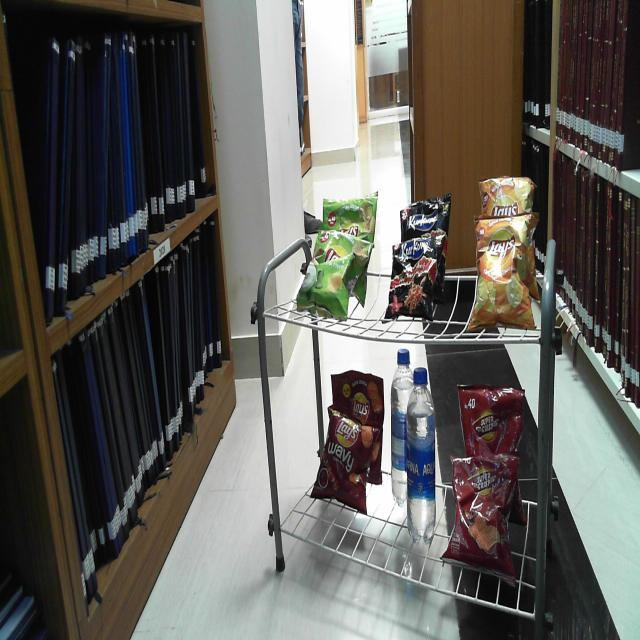Plastic: (449, 456, 515, 574), (469, 218, 537, 332), (316, 422, 376, 514), (300, 232, 362, 320), (408, 366, 438, 544), (456, 380, 526, 456), (387, 240, 438, 322), (390, 346, 407, 508), (322, 188, 378, 234), (334, 368, 385, 417), (478, 177, 534, 214), (400, 197, 450, 238)
